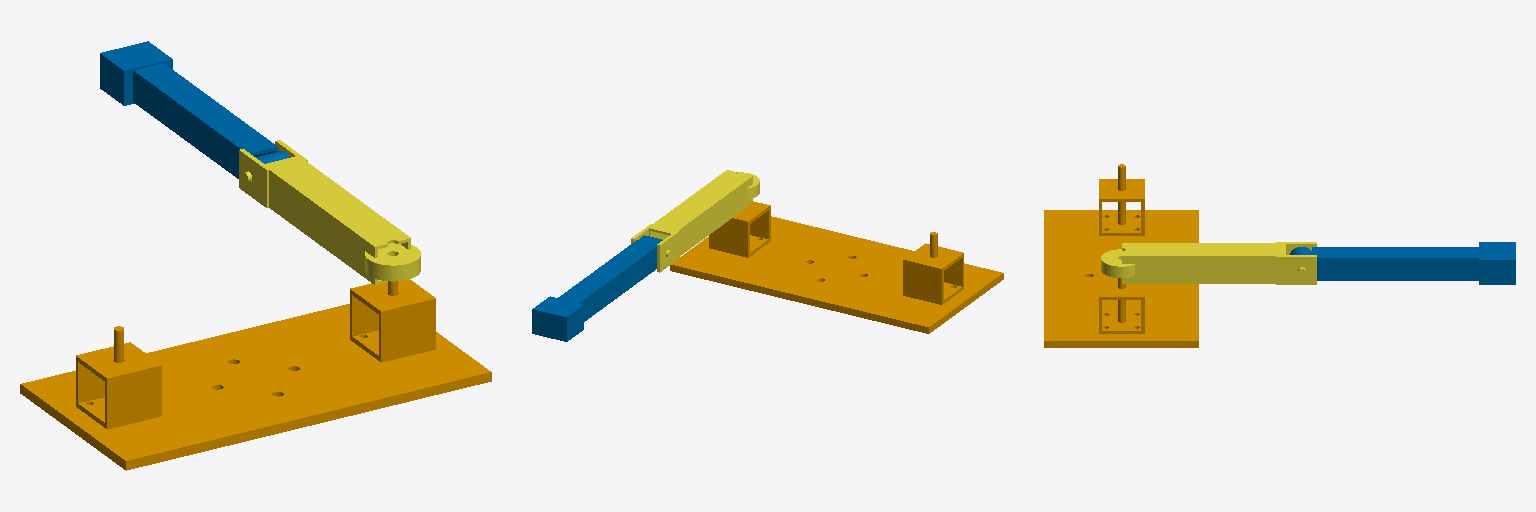
The robot description file, URDF, robot "cambot_original_compact_module":
<robot name="cambot_original_compact_module">
  <link name="compact_module_base">
    <visual>
      <geometry>
        <mesh filename="meshes/compact_module_base.stl" scale="0.001 0.001 0.001" />
      </geometry>
    </visual>
    <collision>
      <geometry>
        <mesh filename="meshes/compact_module_base.stl" scale="0.001 0.001 0.001" />
      </geometry>
    </collision>
  </link>
  <link name="left_upper_arm">
    <visual>
      <geometry>
        <mesh filename="meshes/left_upper_arm.stl" scale="0.001 0.001 0.001" />
      </geometry>
    </visual>
    <collision>
      <geometry>
        <mesh filename="meshes/left_upper_arm.stl" scale="0.001 0.001 0.001" />
      </geometry>
    </collision>
  </link>
  <link name="left_forearm">
    <visual>
      <geometry>
        <mesh filename="meshes/left_forearm.stl" scale="0.001 0.001 0.001" />
      </geometry>
    </visual>
    <collision>
      <geometry>
        <mesh filename="meshes/left_forearm.stl" scale="0.001 0.001 0.001" />
      </geometry>
    </collision>
  </link>
  <link name="right_upper_arm">
    <visual>
      <geometry>
        <mesh filename="meshes/right_upper_arm.stl" scale="0.001 0.001 0.001" />
      </geometry>
    </visual>
    <collision>
      <geometry>
        <mesh filename="meshes/right_upper_arm.stl" scale="0.001 0.001 0.001" />
      </geometry>
    </collision>
  </link>
  <link name="right_forearm">
    <visual>
      <geometry>
        <mesh filename="meshes/right_forearm.stl" scale="0.001 0.001 0.001" />
      </geometry>
    </visual>
    <collision>
      <geometry>
        <mesh filename="meshes/right_forearm.stl" scale="0.001 0.001 0.001" />
      </geometry>
    </collision>
  </link>
  <joint name="left_shoulder_joint" type="revolute">
    <parent link="compact_module_base" />
    <child link="left_upper_arm" />
    <origin xyz="-0.09 0 0.058" rpy="0 0 0" />
    <axis xyz="0 0 1" />
    <limit lower="-1.2" upper="1.2" effort="1" velocity="0.5" />
  </joint>
  <joint name="left_elbow_joint" type="revolute">
    <parent link="left_upper_arm" />
    <child link="left_forearm" />
    <origin xyz="0 0.14 0" rpy="0 0 0" />
    <axis xyz="1 0 0" />
    <limit lower="-1.2" upper="1.2" effort="1" velocity="0.5" />
  </joint>
  <link name="left_gripper_envelope_tip" />
  <joint name="left_envelope_tip" type="fixed">
    <parent link="left_forearm" />
    <child link="left_gripper_envelope_tip" />
    <origin xyz="0 0.166 0" rpy="0 0 0" />
  </joint>
  <joint name="right_shoulder_joint" type="revolute">
    <parent link="compact_module_base" />
    <child link="right_upper_arm" />
    <origin xyz="0.09 0 0.058" rpy="0 0 0" />
    <axis xyz="0 0 1" />
    <limit lower="-1.2" upper="1.2" effort="1" velocity="0.5" />
  </joint>
  <joint name="right_elbow_joint" type="revolute">
    <parent link="right_upper_arm" />
    <child link="right_forearm" />
    <origin xyz="0 0.14 0" rpy="0 0 0" />
    <axis xyz="1 0 0" />
    <limit lower="-1.2" upper="1.2" effort="1" velocity="0.5" />
  </joint>
  <link name="right_gripper_envelope_tip" />
  <joint name="right_envelope_tip" type="fixed">
    <parent link="right_forearm" />
    <child link="right_gripper_envelope_tip" />
    <origin xyz="0 0.166 0" rpy="0 0 0" />
  </joint>
</robot>

--- Facts derived from the render (not from the file) ---
Views: 3 orthographic renders of the robot side by side, from view 1: azimuth 30°, elevation 25°; view 2: azimuth 150°, elevation 25°; view 3: azimuth 270°, elevation 25°.
Model cambot_original_compact_module with 7 links and 6 joints (4 revolute, 2 fixed), rooted at compact_module_base, posed all joints at 0.
Visible links, largest first — view 1: compact_module_base, right_upper_arm, right_forearm; view 2: compact_module_base, right_forearm, right_upper_arm; view 3: compact_module_base, right_upper_arm, right_forearm.
Boxes of the visible links, x1,y1,x2,y2 form: compact_module_base: (20,279,491,470); right_upper_arm: (239,140,420,284); right_forearm: (100,41,289,178); compact_module_base: (670,201,1003,333); right_forearm: (532,235,662,341); right_upper_arm: (631,170,759,272); compact_module_base: (1044,164,1198,347); right_upper_arm: (1101,242,1316,284); right_forearm: (1290,242,1515,284).
Bounding box of the posed robot: 0.24 × 0.366 × 0.078 m (x, y, z).
3 mesh visuals loaded from 5 distinct referenced files (3 binary STL); not drawn: 2 (reference not matched to a file when rendering).
